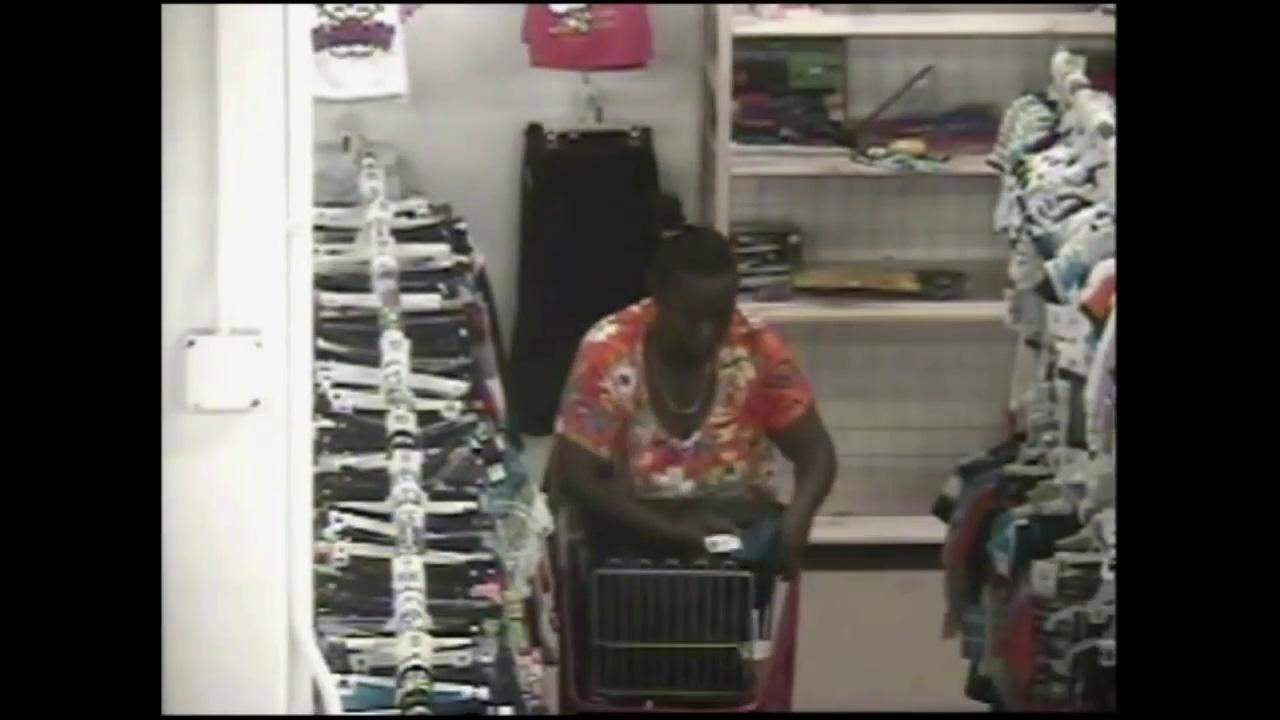Product: (603, 490, 795, 578)
Product-Picked: (492, 186, 872, 641)
Shopping-Cart: (522, 592, 840, 720)
